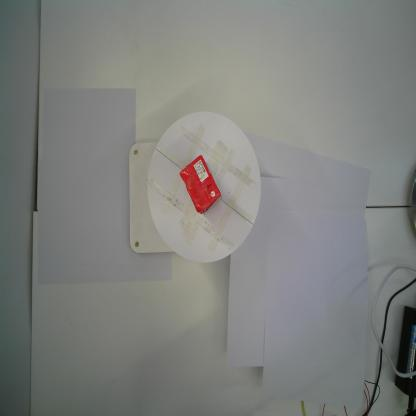Milk: (176, 152, 224, 219)
